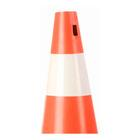traffic_cone: (41, 10, 99, 134)
